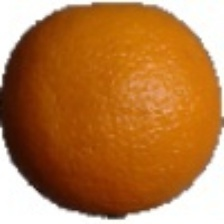orange: (14, 59, 170, 201)
